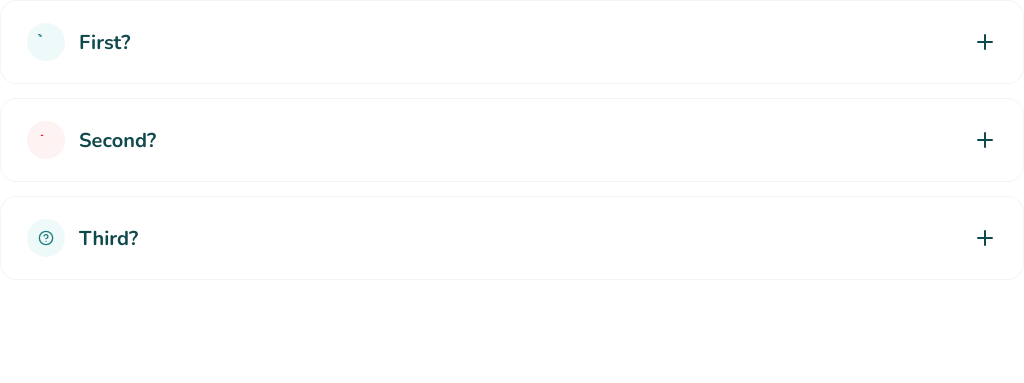
Scenario: FaqCards (multiple mode) › keeps several items open
The image size is (1024, 383).
Click the button "First?" at [46, 42], box x1=27 y1=23 x2=997 y2=61
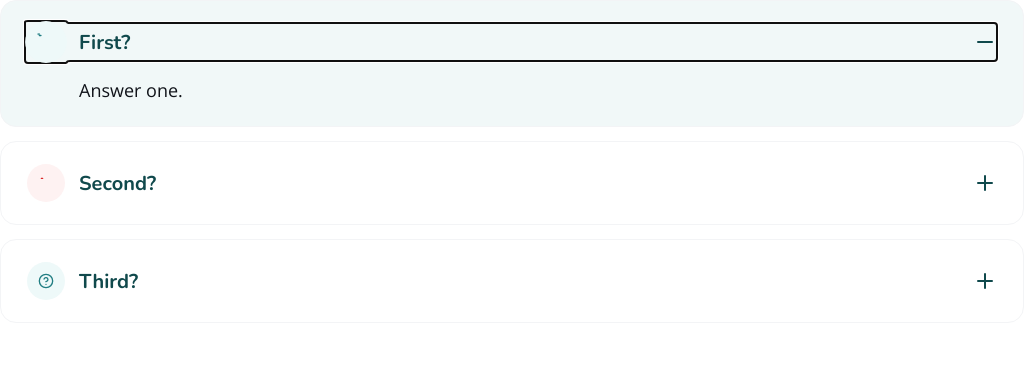
Click the button "Second?" at [46, 183], box x1=27 y1=164 x2=997 y2=202
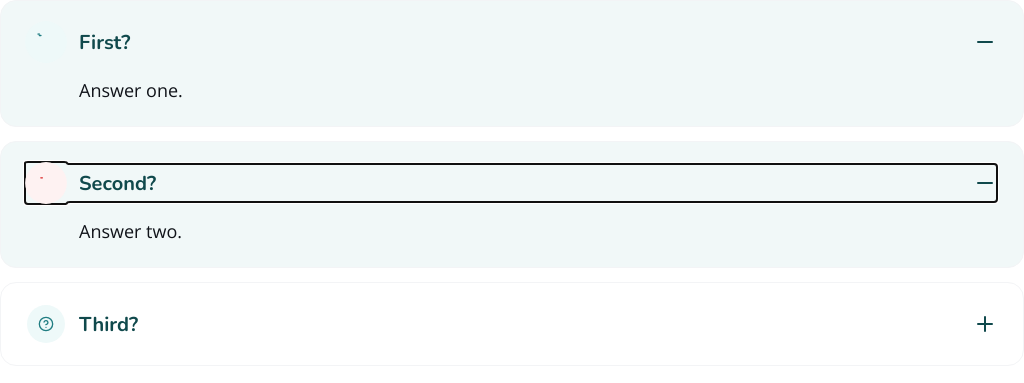
Check: the button "First?" is expanded, box x1=27 y1=23 x2=997 y2=61
Check: the button "Second?" is expanded, box x1=27 y1=164 x2=997 y2=202
